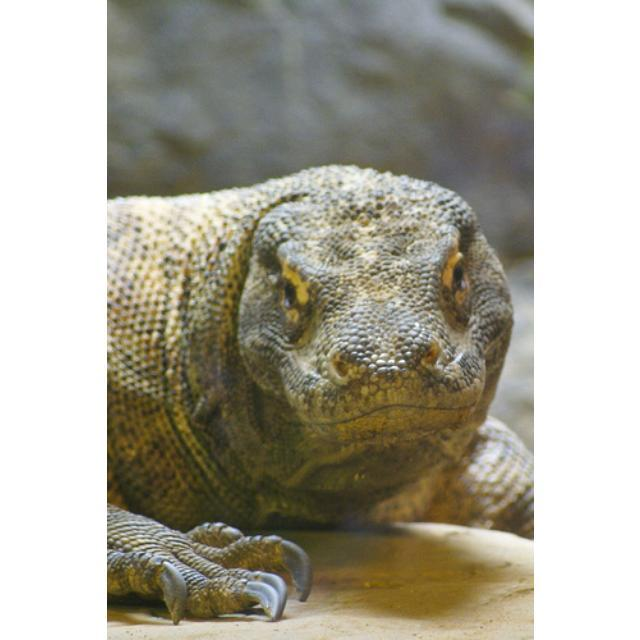KomodoDragon: (107, 162, 530, 627)
